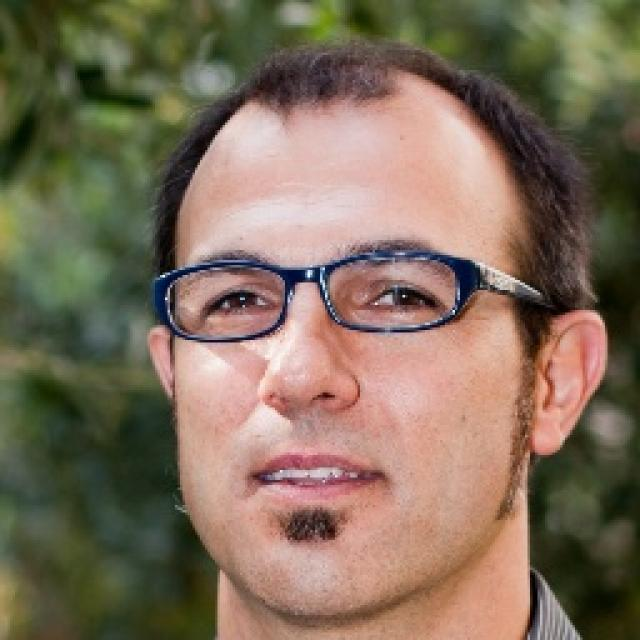earlobe: (526, 311, 607, 458), (144, 324, 172, 403)
